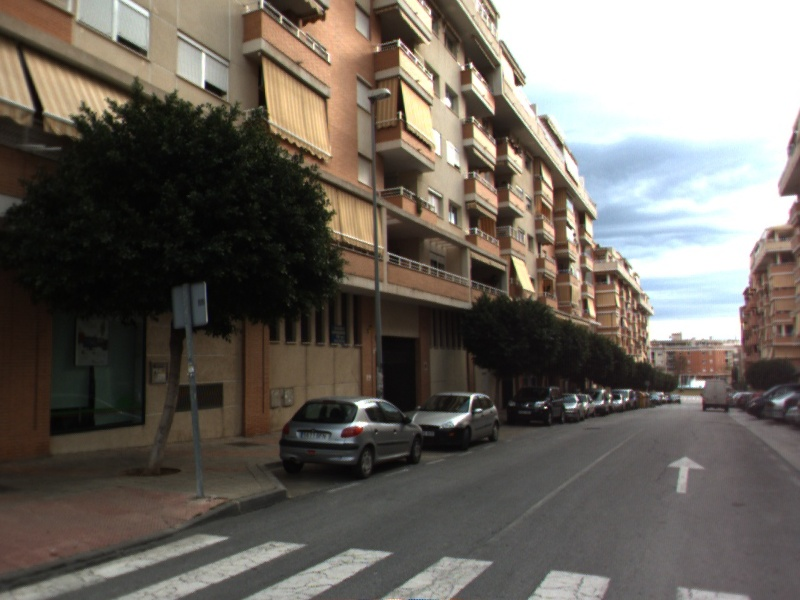STRAIGHT: (665, 453, 707, 495)
